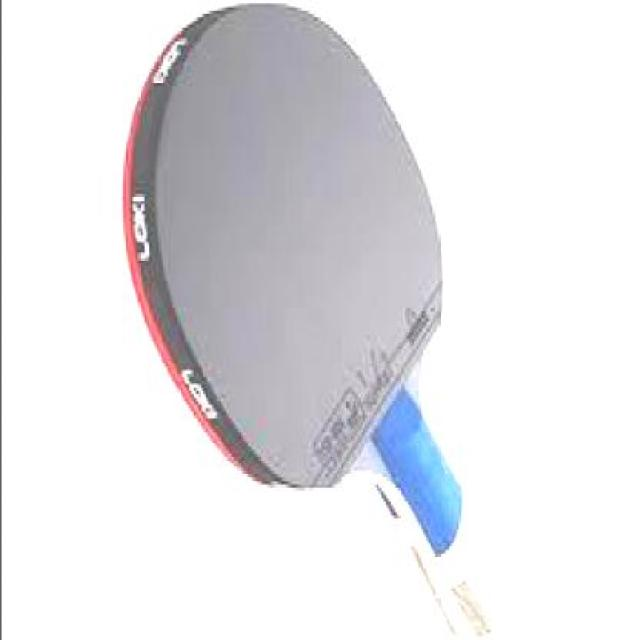table_tennis_racket: (120, 2, 449, 498)
